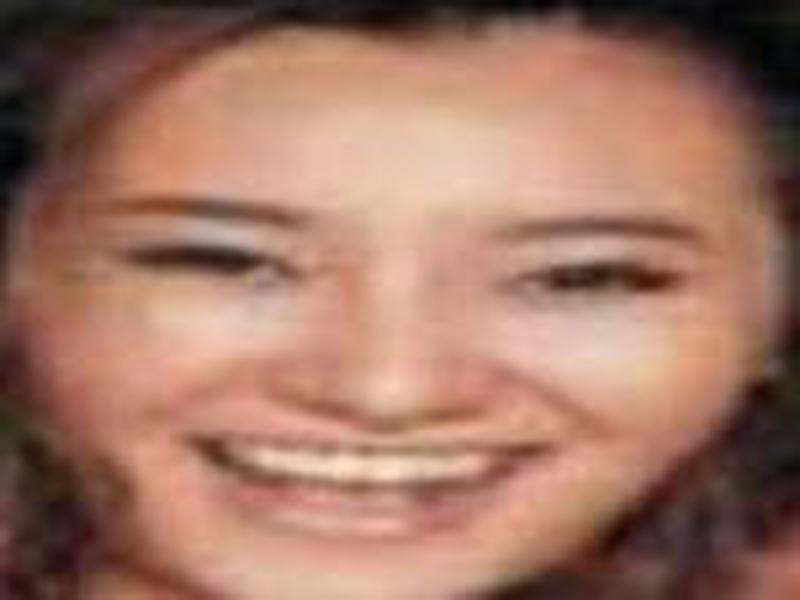without_mask: (46, 67, 744, 591)
